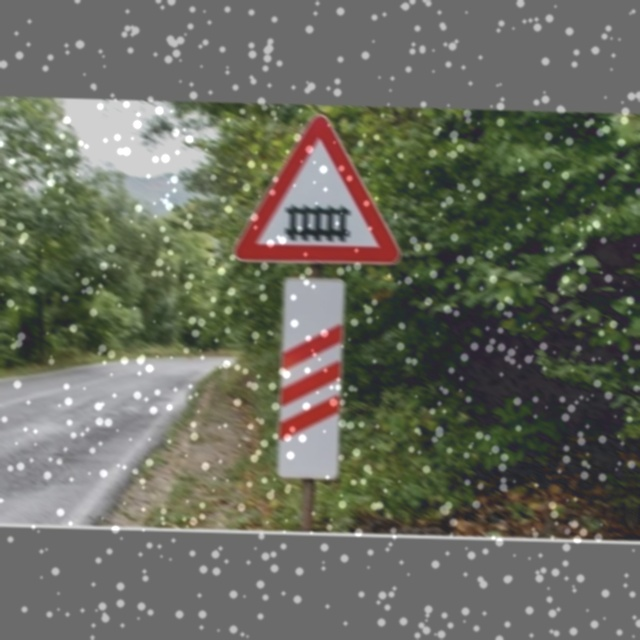Guarded_Level_Crossing: (235, 113, 405, 264)
